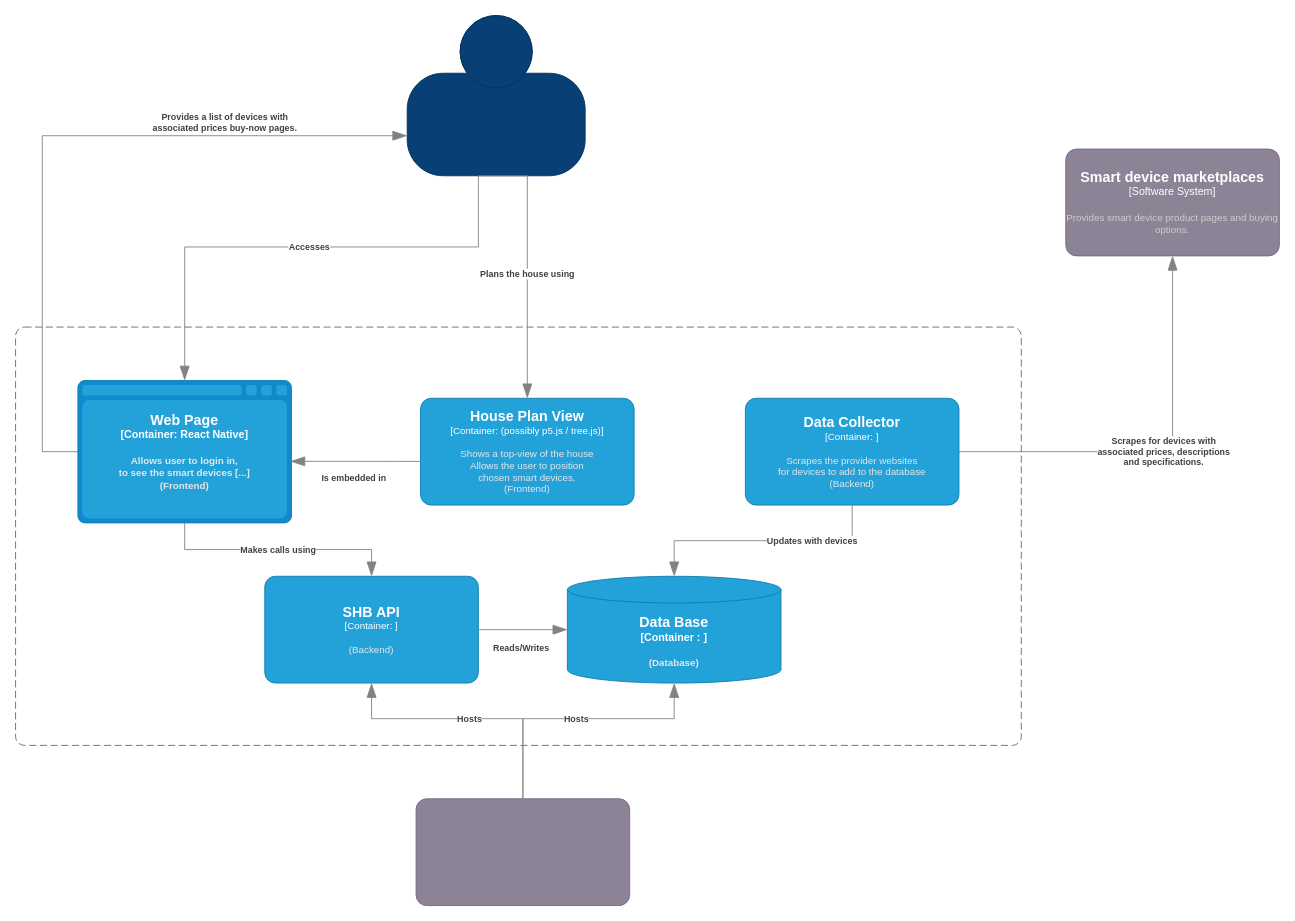
Some shapes in this 1295 by 921 pixel diagram are drawn without their labels. The shapes that lost their labels are listed below. From the top down, each one's box as (x1, y1, x2, y2) in pixels, then its label:
(406, 15, 585, 176): End User [Person] A user who wishes to build a smart house.
(15, 326, 1021, 745): Smart House Builder [Application]
(415, 798, 630, 906): Hosting provider [Software System] Hosts the application.
